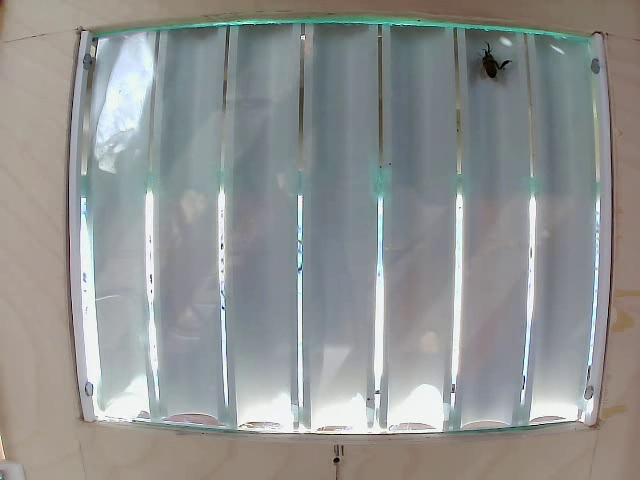bee: (474, 40, 510, 89)
